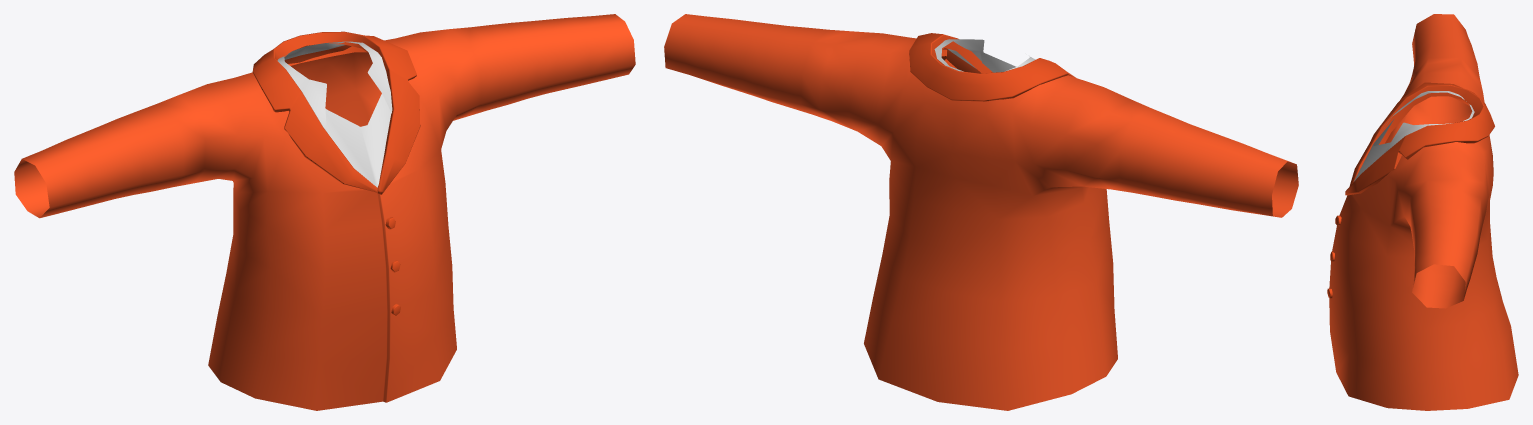
File: Outerwear_Orange_010.glb
3 renders of one model, left to right at view 1: azimuth 30°, elevation 25°; view 2: azimuth 150°, elevation 25°; view 3: azimuth 270°, elevation 25°, orthographic. The views are drawn at different scales.
Parts seen in each view (by area): view 1: Outerwear_Orange_010; view 2: Outerwear_Orange_010; view 3: Outerwear_Orange_010.
Boxes of the visible parts, x1,y1,x2,y2 form: Outerwear_Orange_010: (14, 14, 635, 410); Outerwear_Orange_010: (664, 14, 1298, 410); Outerwear_Orange_010: (1327, 14, 1518, 410).
Bounding box in the file's own units: 1.29 × 0.6477 × 0.4144.
1 material, 1 textured.
